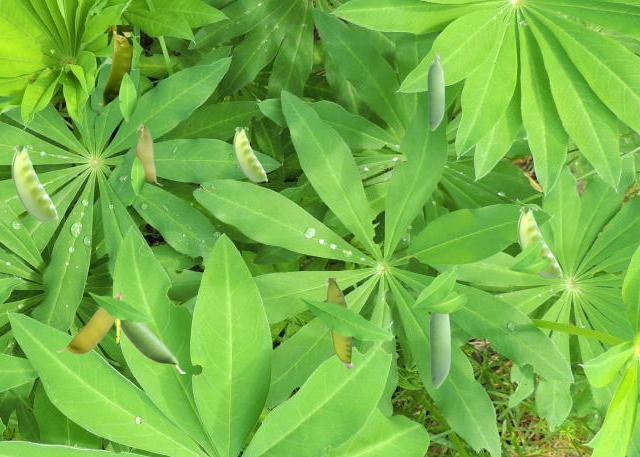pea: (56, 292, 121, 353), (11, 145, 57, 225), (517, 207, 561, 282), (121, 321, 184, 372), (97, 25, 131, 105), (326, 278, 352, 367), (233, 127, 266, 184), (135, 123, 162, 184), (429, 313, 449, 387), (427, 49, 443, 129), (116, 320, 120, 344)
